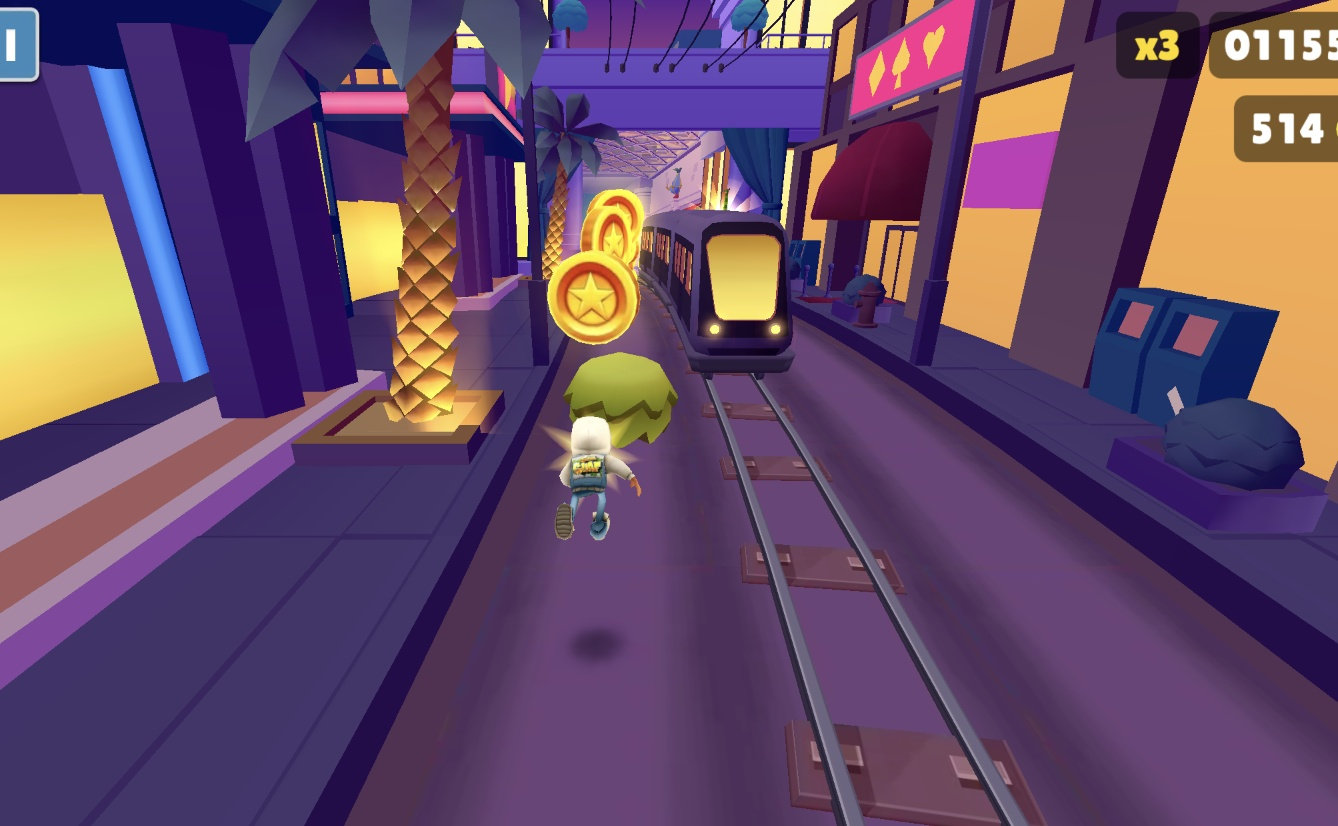bush: (562, 352, 679, 452)
train: (637, 215, 794, 377)
